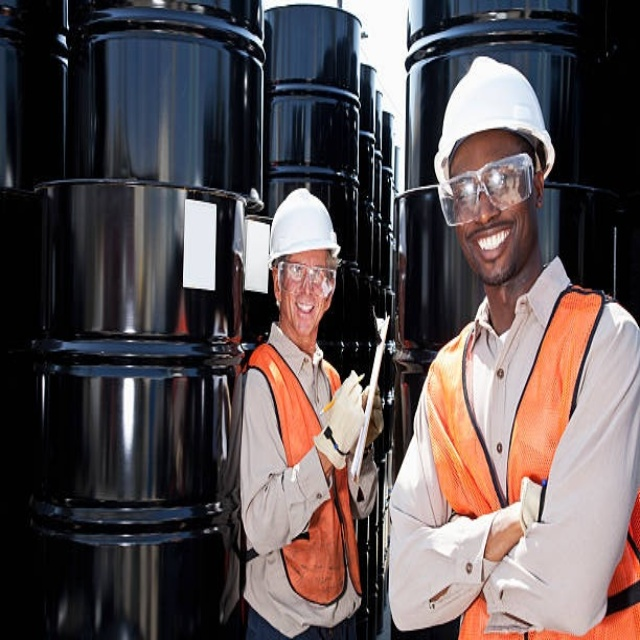Gafas: (438, 152, 533, 227), (275, 257, 336, 296)
Guantes: (316, 372, 383, 464)
Sin_mascara: (466, 227, 516, 278), (288, 296, 314, 333)
